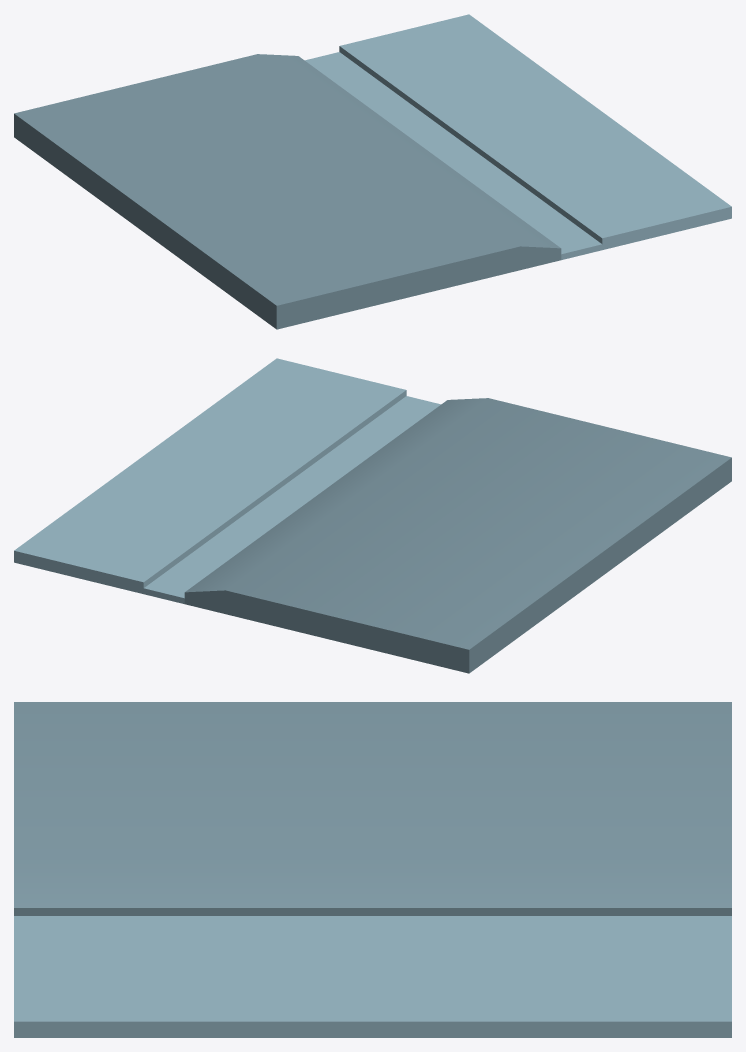
File: roadEdge.dae
3 views of the same model, one above another, from view 1: azimuth 30°, elevation 25°; view 2: azimuth 150°, elevation 25°; view 3: azimuth 270°, elevation 25° (orthographic). The views are drawn at different scales.
Visible parts, largest first — view 1: roadEdge; view 2: roadEdge; view 3: roadEdge.
Part boxes in pixels (left/top/right/bottom): roadEdge: left=14, top=14, right=731, bottom=329; roadEdge: left=14, top=358, right=731, bottom=673; roadEdge: left=14, top=702, right=731, bottom=1037.
Bounding box in the file's own units: 1 × 0.05 × 1.
